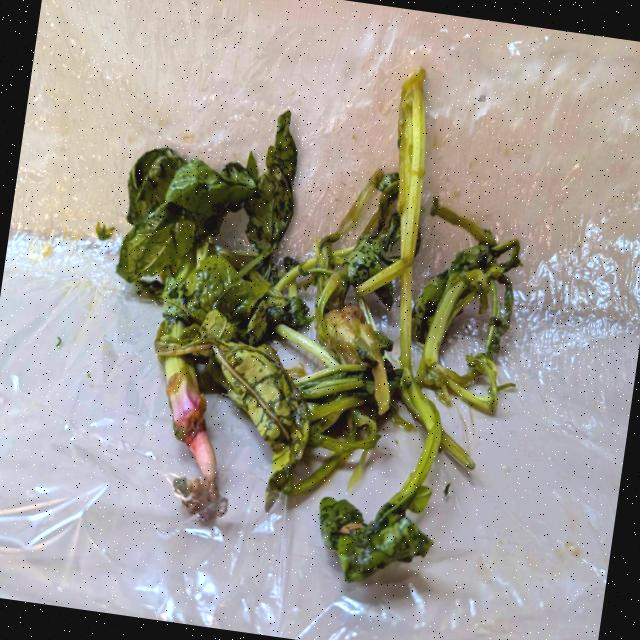rotten spinach: (65, 38, 560, 616), (252, 46, 520, 610), (273, 180, 521, 590), (71, 108, 289, 540), (165, 160, 449, 408), (116, 302, 250, 544)
